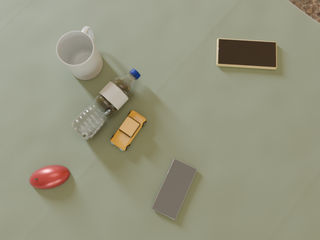bottle: (71, 69, 140, 140)
cup: (57, 26, 103, 80)
mouse: (30, 165, 70, 189)
phone: (152, 159, 197, 220), (216, 38, 277, 69)
toy_car: (111, 110, 146, 151)
